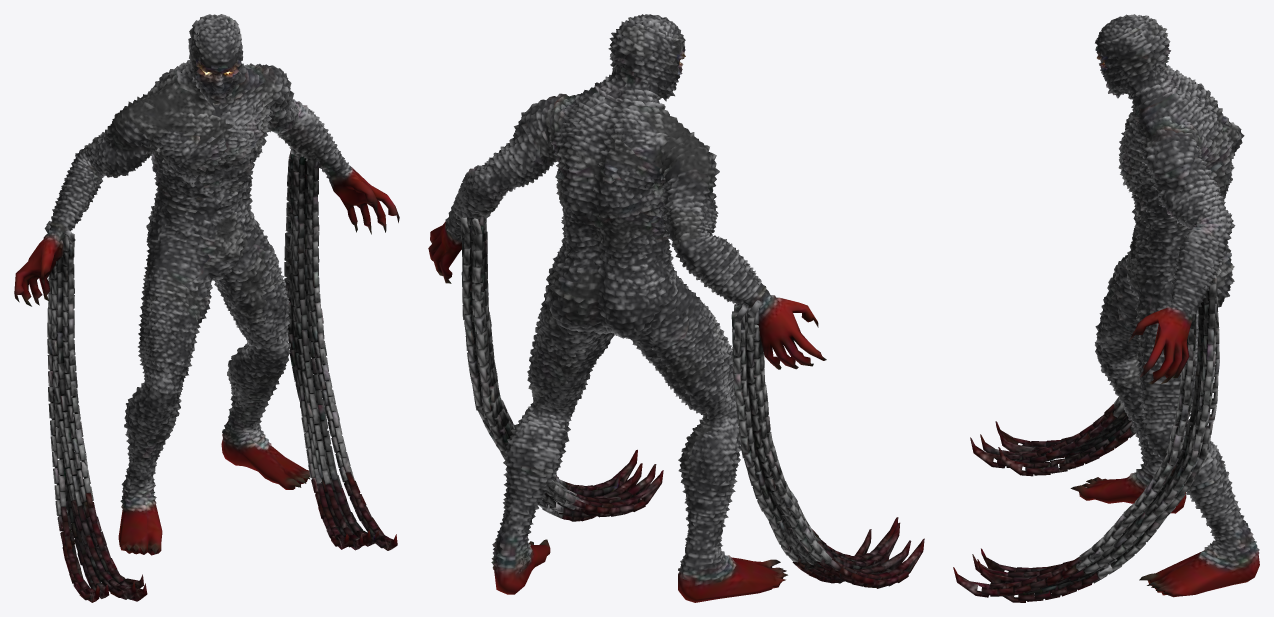
Rendered from MZ4250 - Chain Devil_2025.glb.
The picture shows the model from 3 angles, left to right: view 1: azimuth 30°, elevation 25°; view 2: azimuth 150°, elevation 25°; view 3: azimuth 270°, elevation 25°; orthographic projection. The views are drawn at different scales.
Visible parts, largest first — view 1: Body.002; view 2: Body.002; view 3: Body.002.
Part boxes in pixels (box(x1,y1,x2,y2)): Body.002: box(14, 14, 399, 602); Body.002: box(428, 14, 924, 602); Body.002: box(953, 14, 1259, 602).
Bounding box in the file's own units: 70.09 × 91.38 × 47.41.
1 material, 1 textured.
